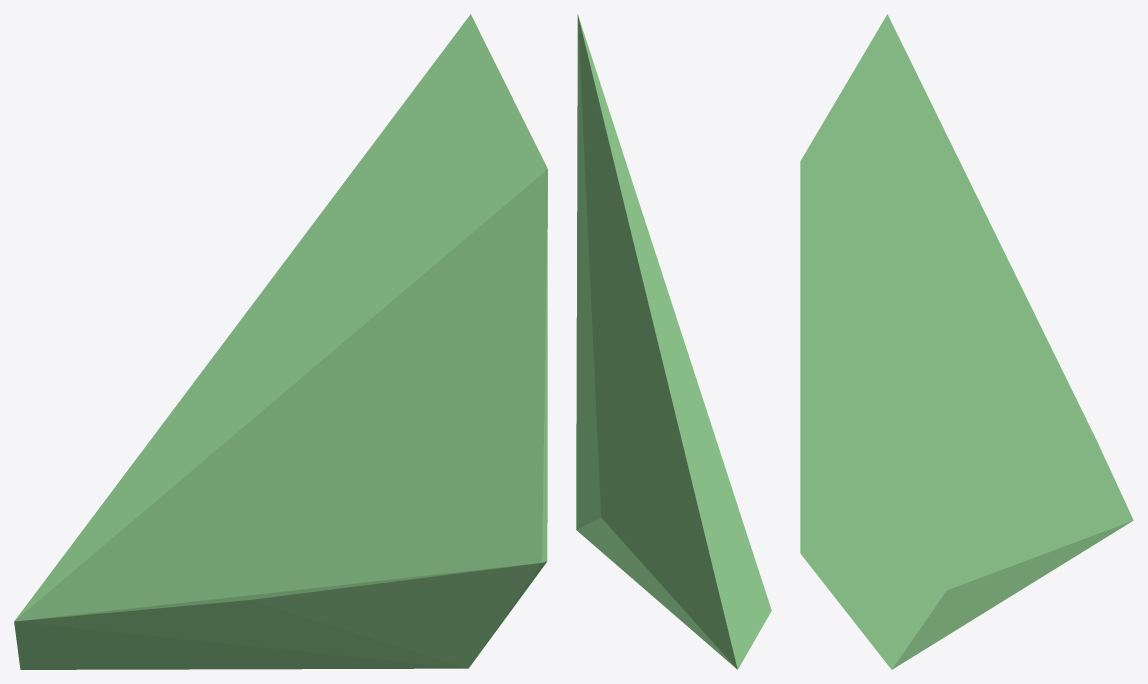
Rendered from xarm7_with_gripper_robot_base_coll_24.dae.
The picture shows the model from 3 angles, left to right: view 1: azimuth 30°, elevation 25°; view 2: azimuth 150°, elevation 25°; view 3: azimuth 270°, elevation 25°; orthographic projection. The views are drawn at different scales.
Parts seen in each view (by area): view 1: Node_000001B89B5E4490; view 2: Node_000001B89B5E4490; view 3: Node_000001B89B5E4490.
Part boxes in pixels (x1=…): Node_000001B89B5E4490: x1=14, y1=14, x2=547, y2=669; Node_000001B89B5E4490: x1=576, y1=14, x2=771, y2=669; Node_000001B89B5E4490: x1=800, y1=14, x2=1133, y2=669.
Size of the model in its own units: 0.0328 by 0.0541 by 0.0245.
